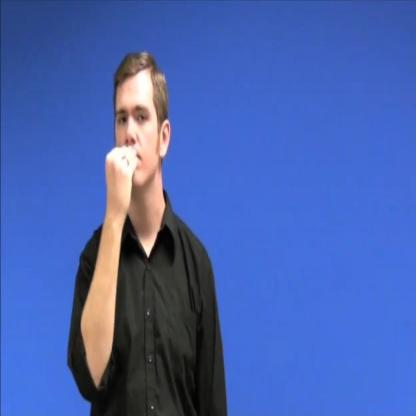Food: (94, 31, 181, 210)
